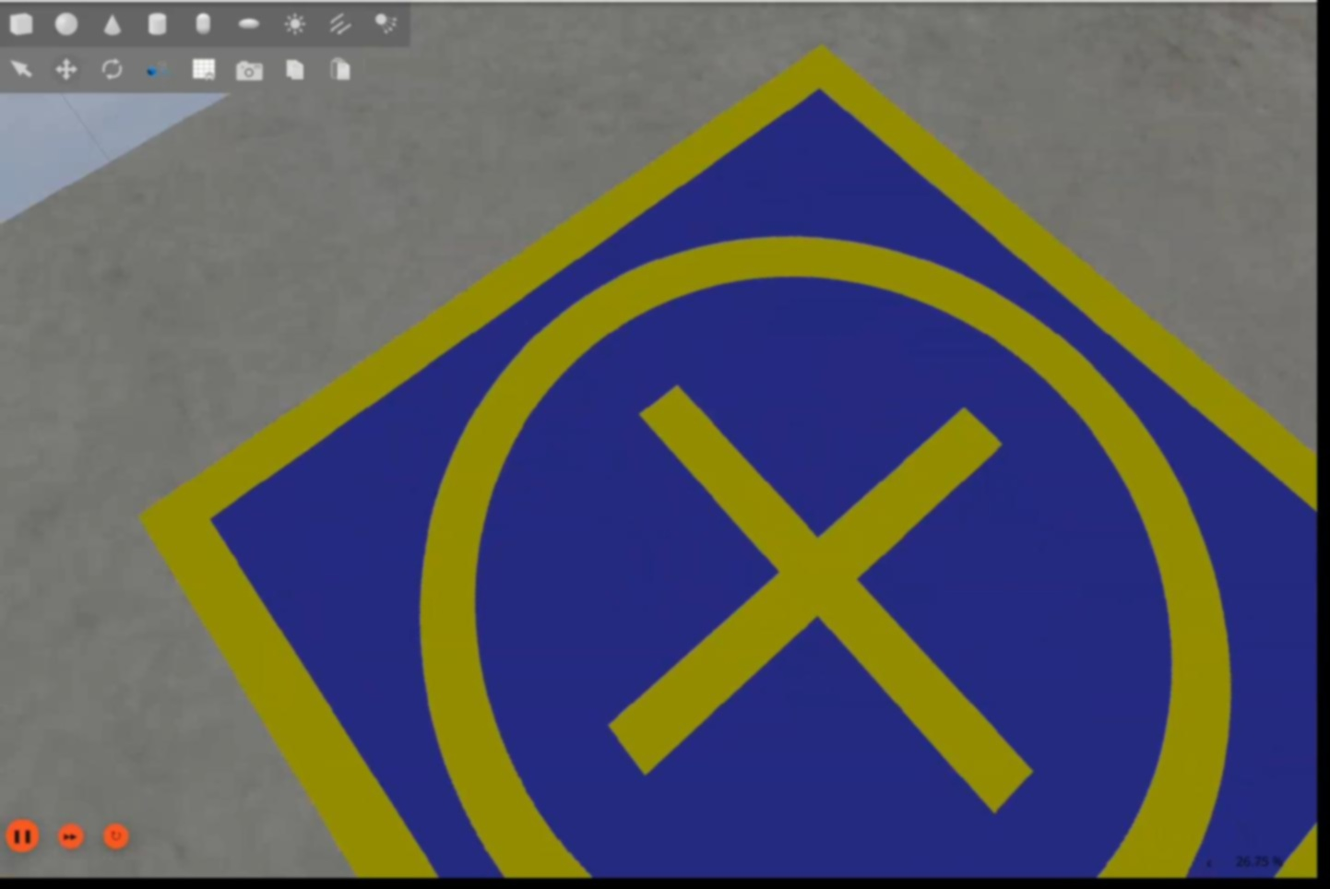small_base: (145, 44, 1322, 875)
